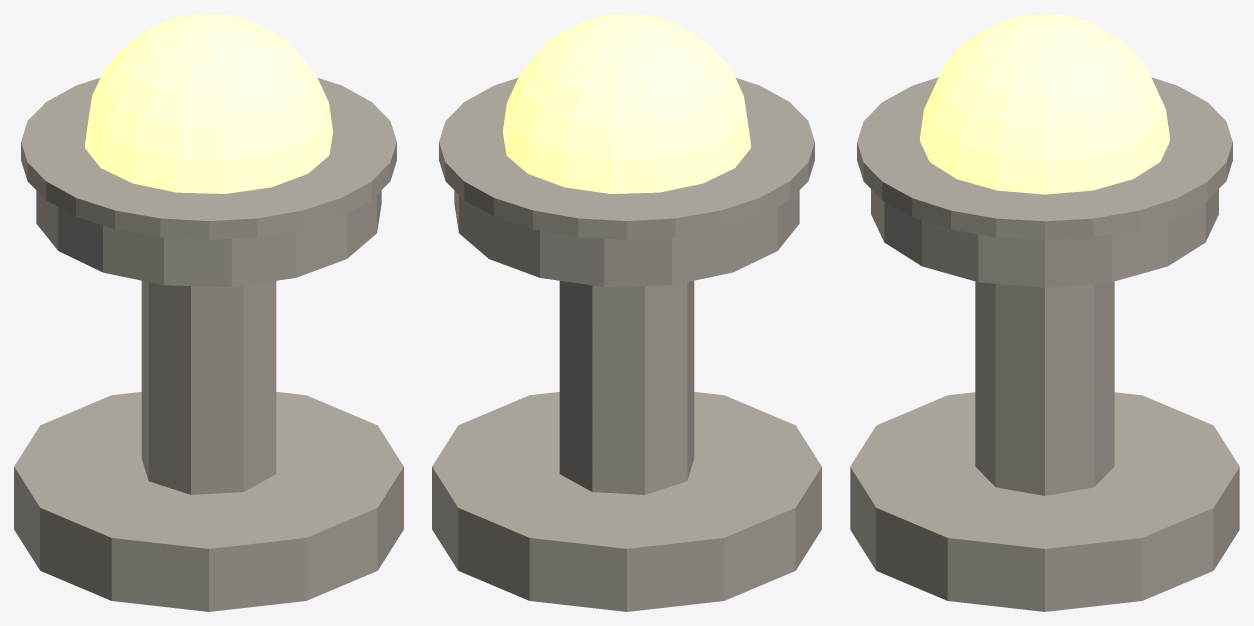
The model's file is StoneFireBrazier.fbx.
3 views of the same model, side by side, from view 1: azimuth 30°, elevation 25°; view 2: azimuth 150°, elevation 25°; view 3: azimuth 270°, elevation 25° (orthographic).
Visible parts, largest first — view 1: StoneFireBrazier; view 2: StoneFireBrazier; view 3: StoneFireBrazier.
Boxes of the visible parts, <box> form: StoneFireBrazier: <box>14,14,403,611</box>; StoneFireBrazier: <box>432,14,821,611</box>; StoneFireBrazier: <box>850,14,1239,611</box>.
Bounding box in the file's own units: 56 × 80 × 56.
